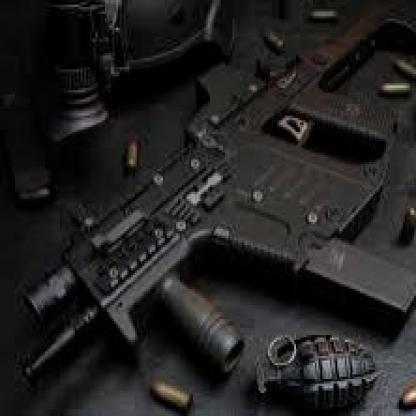Grenade: (256, 330, 379, 413)
Gun: (21, 7, 416, 385)
